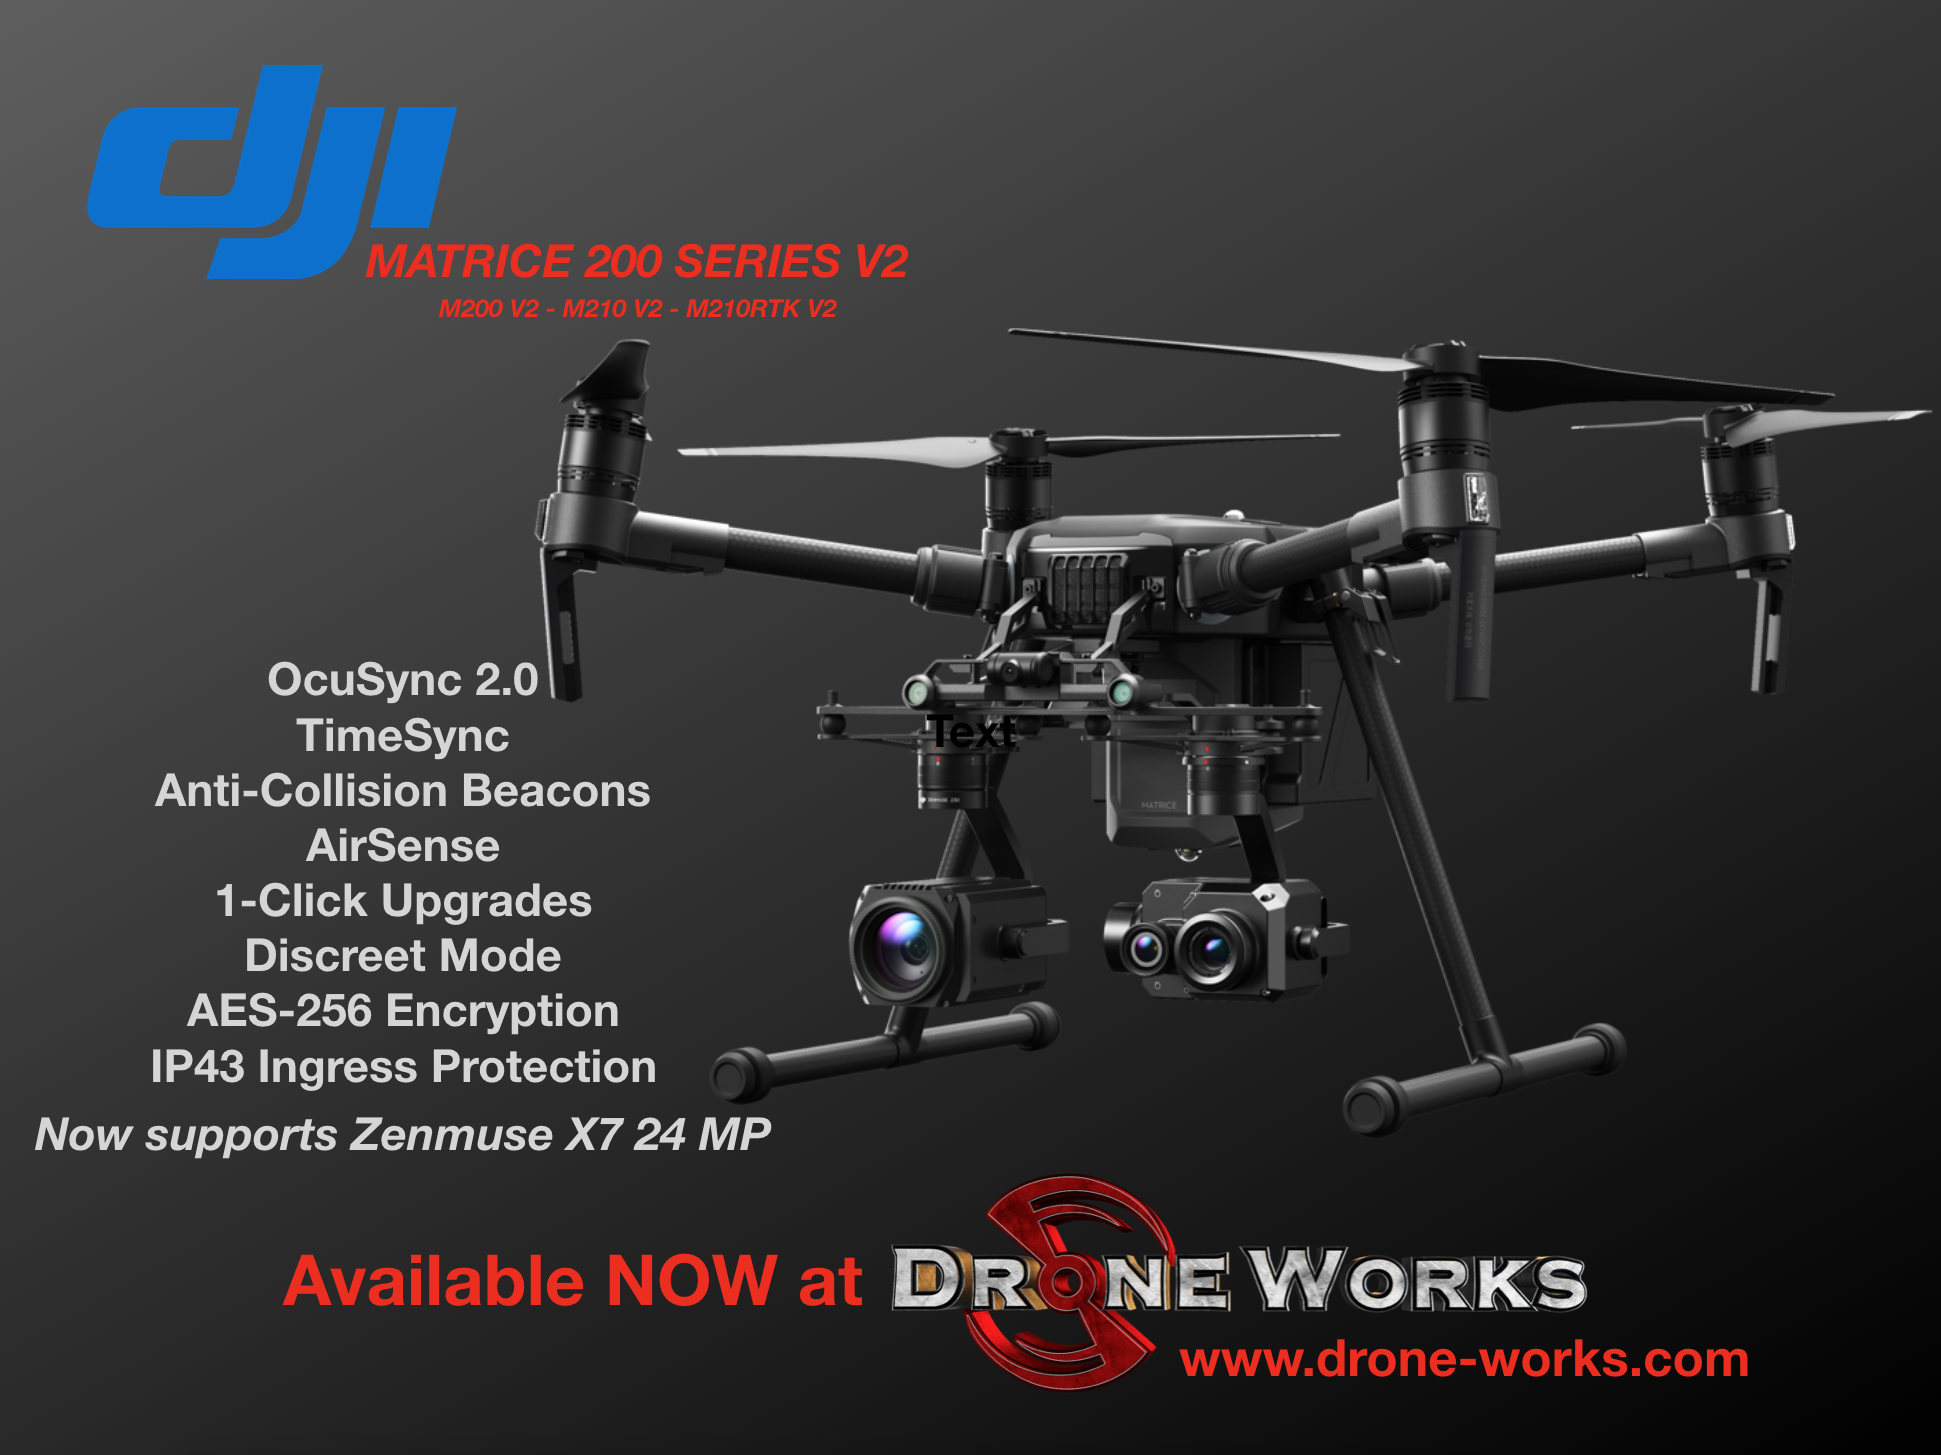drone: (524, 310, 1933, 1140)
